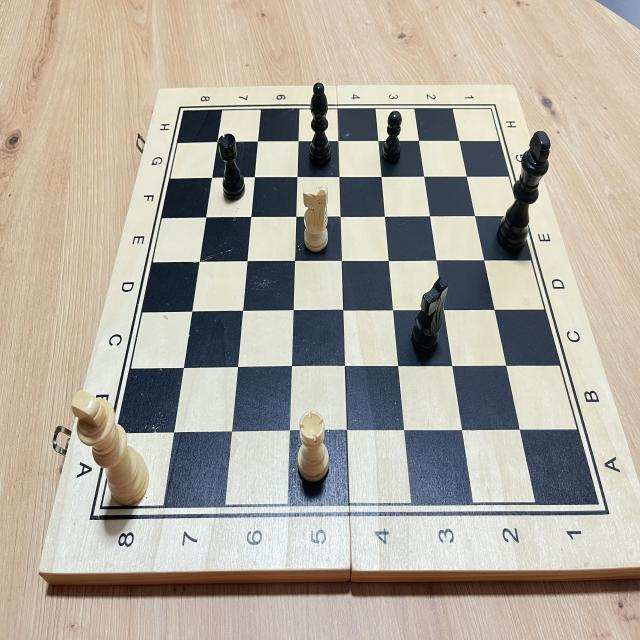black-bishop: (299, 79, 334, 171)
black-king: (488, 120, 556, 266)
black-knight: (410, 274, 453, 364)
black-pawn: (378, 107, 413, 178)
black-rook: (213, 127, 249, 198)
white-king: (64, 384, 153, 509)
white-knight: (298, 182, 336, 256)
white-rook: (288, 406, 336, 494)
